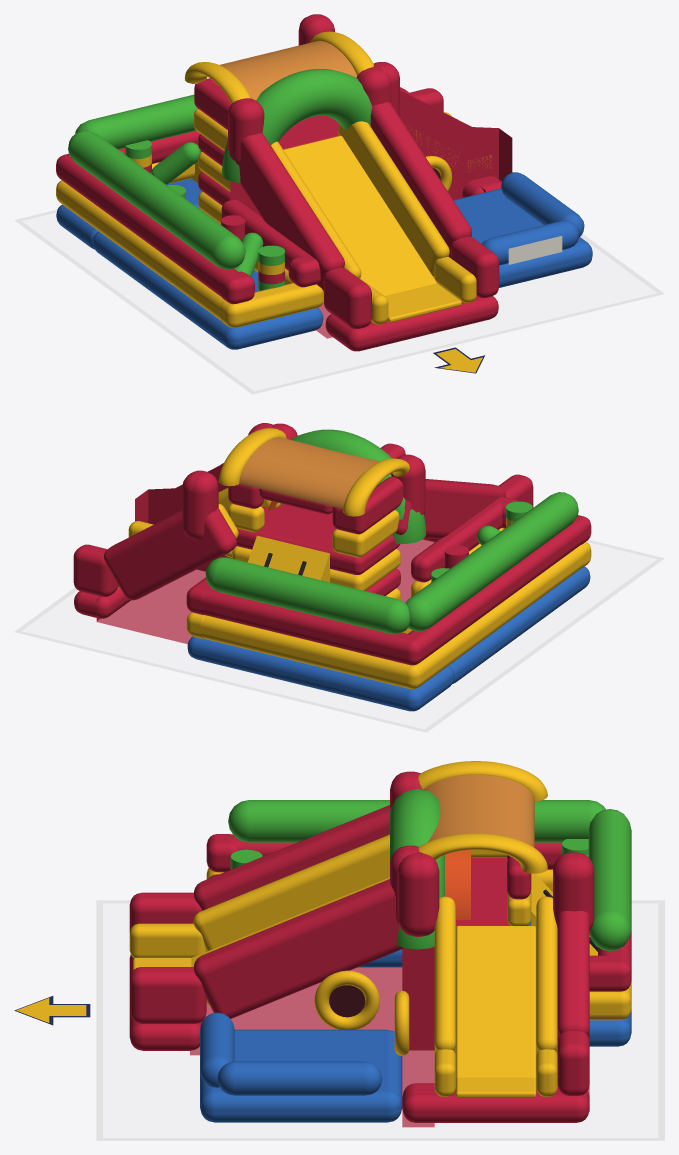
File: megatobogan-v7.glb
3 renders of one model, top to bottom at view 1: azimuth 30°, elevation 25°; view 2: azimuth 150°, elevation 25°; view 3: azimuth 270°, elevation 25°, orthographic. The views are drawn at different scales.
Parts seen in each view (by area): view 1: rojo, amarillo, verde, espacio, azul, lona, borde, cartel; view 2: rojo, amarillo, espacio, verde, azul, lona, borde; view 3: rojo, amarillo, espacio, azul, verde, lona, borde, malla, hueco.
Boxes of the visible parts, left/top/right/bottom form: rojo: left=56, top=14, right=512, bottom=351; amarillo: left=56, top=31, right=491, bottom=372; verde: left=68, top=69, right=372, bottom=290; espacio: left=22, top=213, right=656, bottom=390; azul: left=56, top=172, right=592, bottom=349; lona: left=220, top=40, right=357, bottom=100; borde: left=14, top=210, right=664, bottom=394; cartel: left=508, top=236, right=562, bottom=264; rojo: left=73, top=423, right=591, bottom=665; amarillo: left=117, top=428, right=591, bottom=689; espacio: left=23, top=540, right=656, bottom=728; verde: left=205, top=429, right=578, bottom=634; azul: left=187, top=463, right=590, bottom=711; lona: left=239, top=437, right=379, bottom=508; borde: left=14, top=539, right=664, bottom=732; rojo: left=129, top=771, right=631, bottom=1127; amarillo: left=16, top=761, right=631, bottom=1097; espacio: left=103, top=903, right=657, bottom=1137; azul: left=200, top=919, right=631, bottom=1122; verde: left=228, top=788, right=631, bottom=951; lona: left=423, top=774, right=534, bottom=847; borde: left=96, top=900, right=664, bottom=1140; malla: left=445, top=850, right=470, bottom=919; hueco: left=329, top=985, right=365, bottom=1017.
Bounding box in the file's own units: 8.5 × 3.5 × 9.73.
